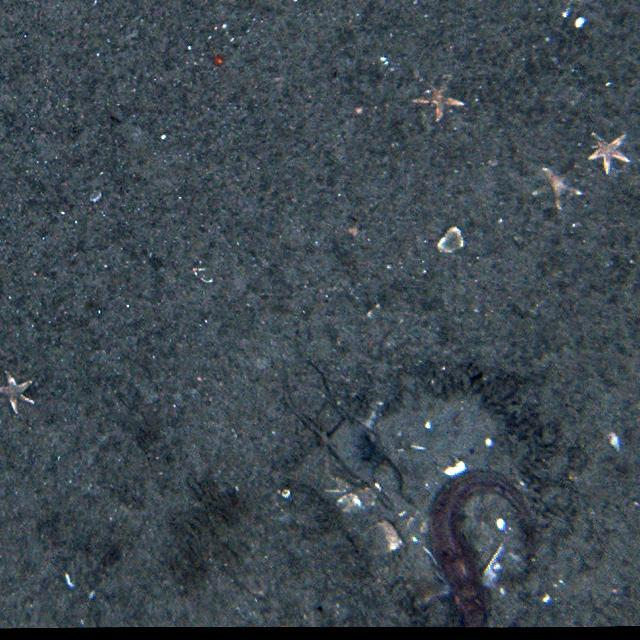roundfish: (430, 469, 548, 630)
